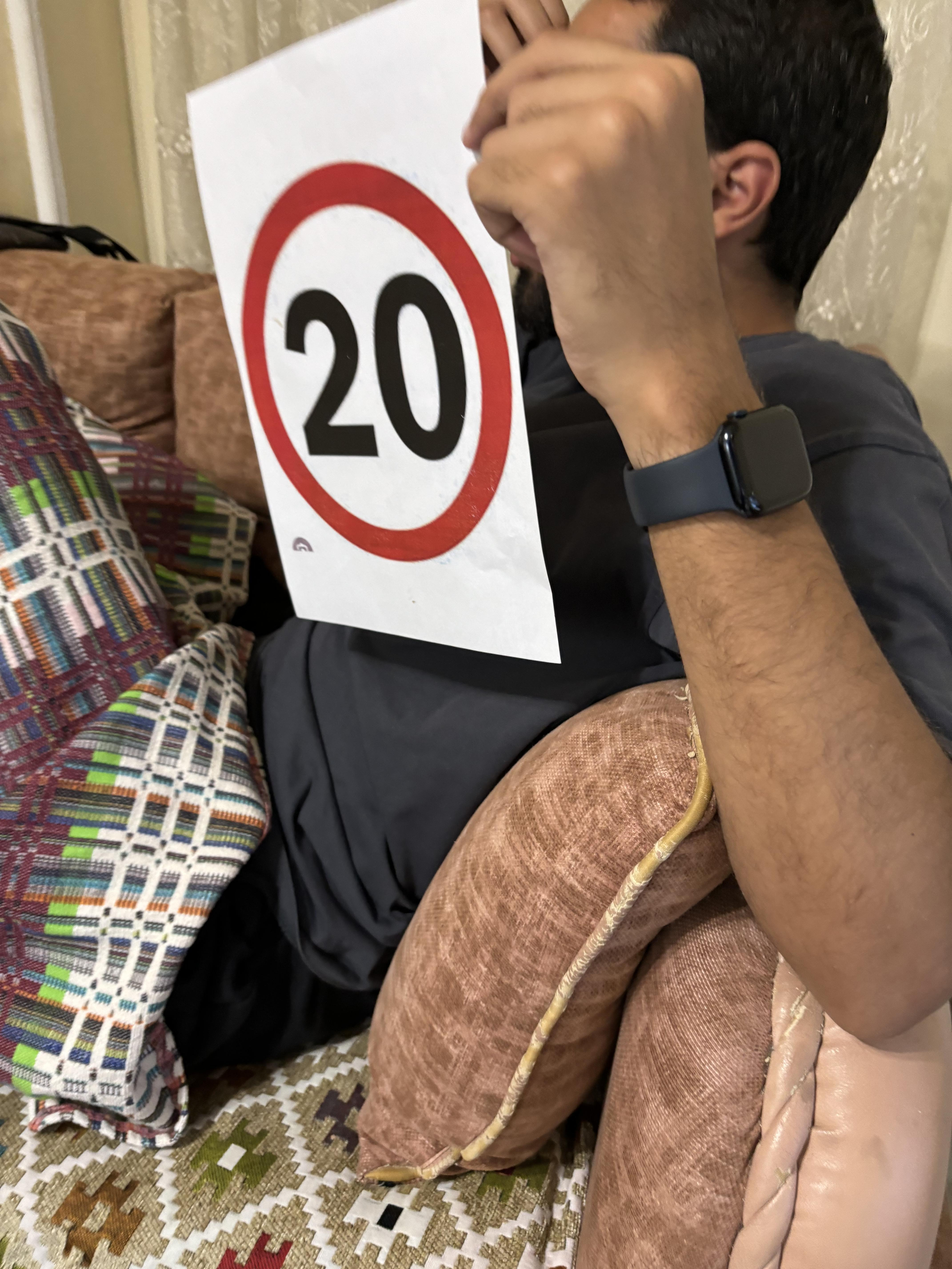20-Speed: (237, 149, 520, 570)
